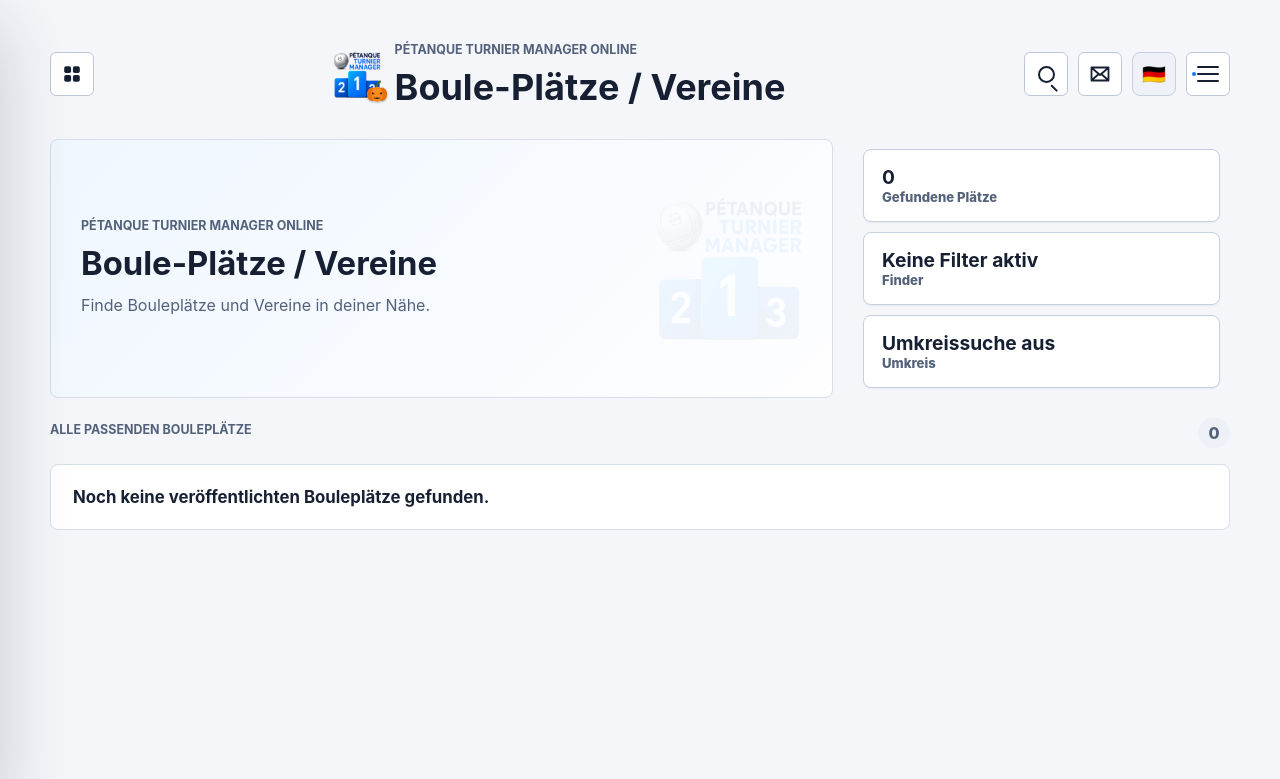
Test: Hamburger-Menü behält den Bereich › zeigt nach „Mein Profil“ aus Plätze & Vereine weiter das Menü dieses Bereichs
Click the button named "Menü öffnen": (1208, 74) x1=1186 y1=52 x2=1230 y2=96
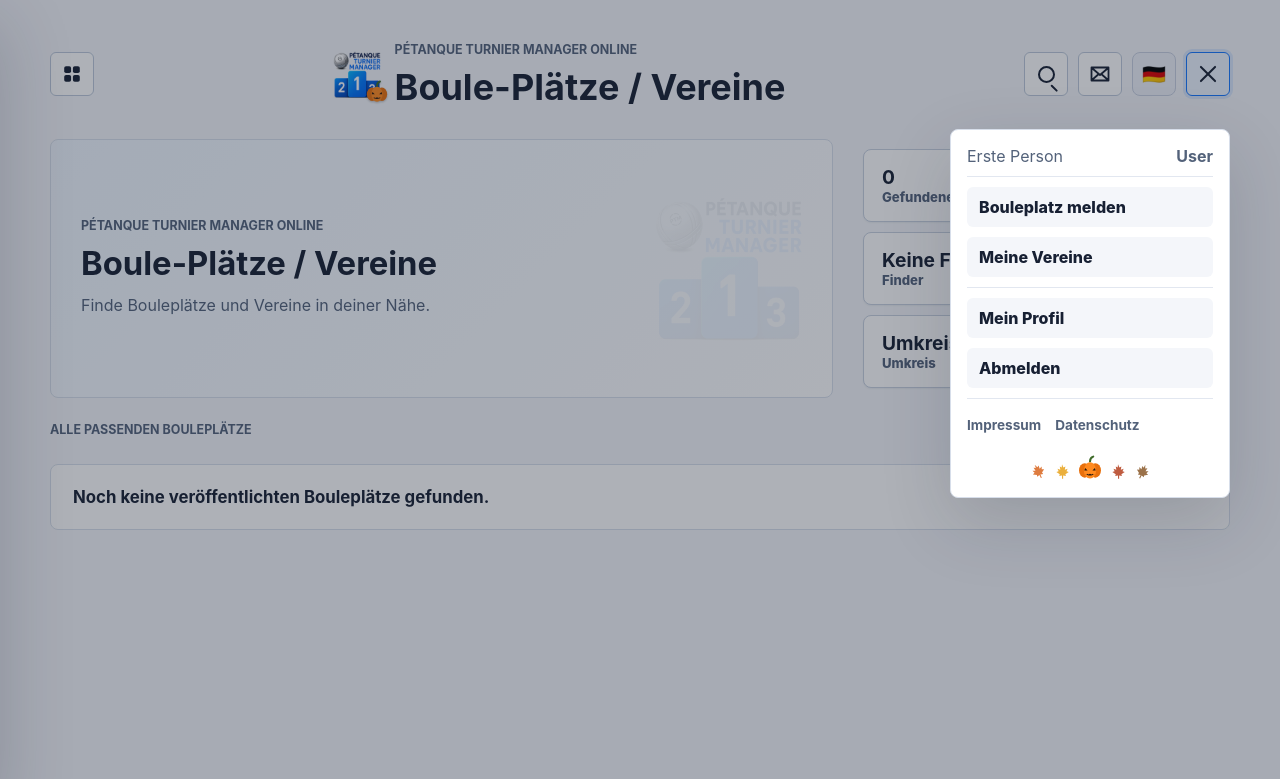
Click the button "Mein Profil": (1090, 318) x1=967 y1=298 x2=1213 y2=338
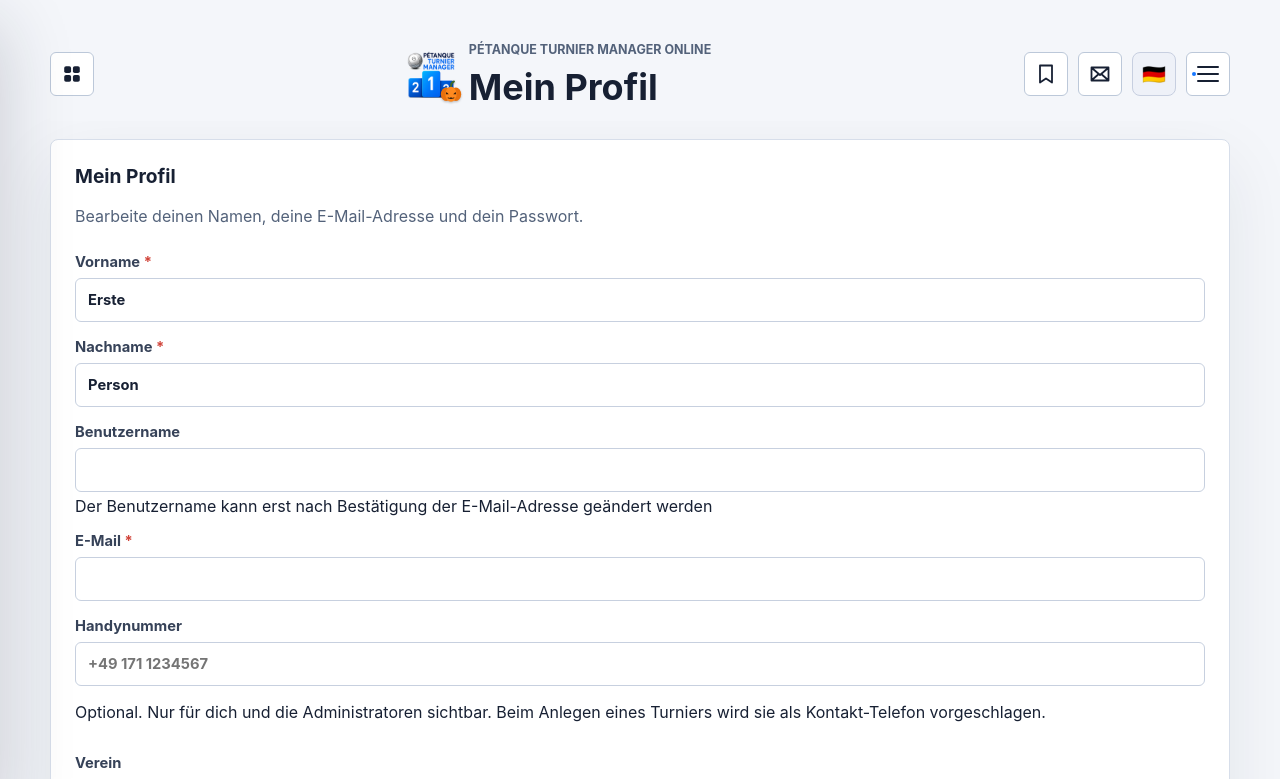
Now the 1st heading "Mein Profil" is shown, box x1=469 y1=65 x2=658 y2=109
Click the button named "Menü öffnen": (1208, 74) x1=1186 y1=52 x2=1230 y2=96
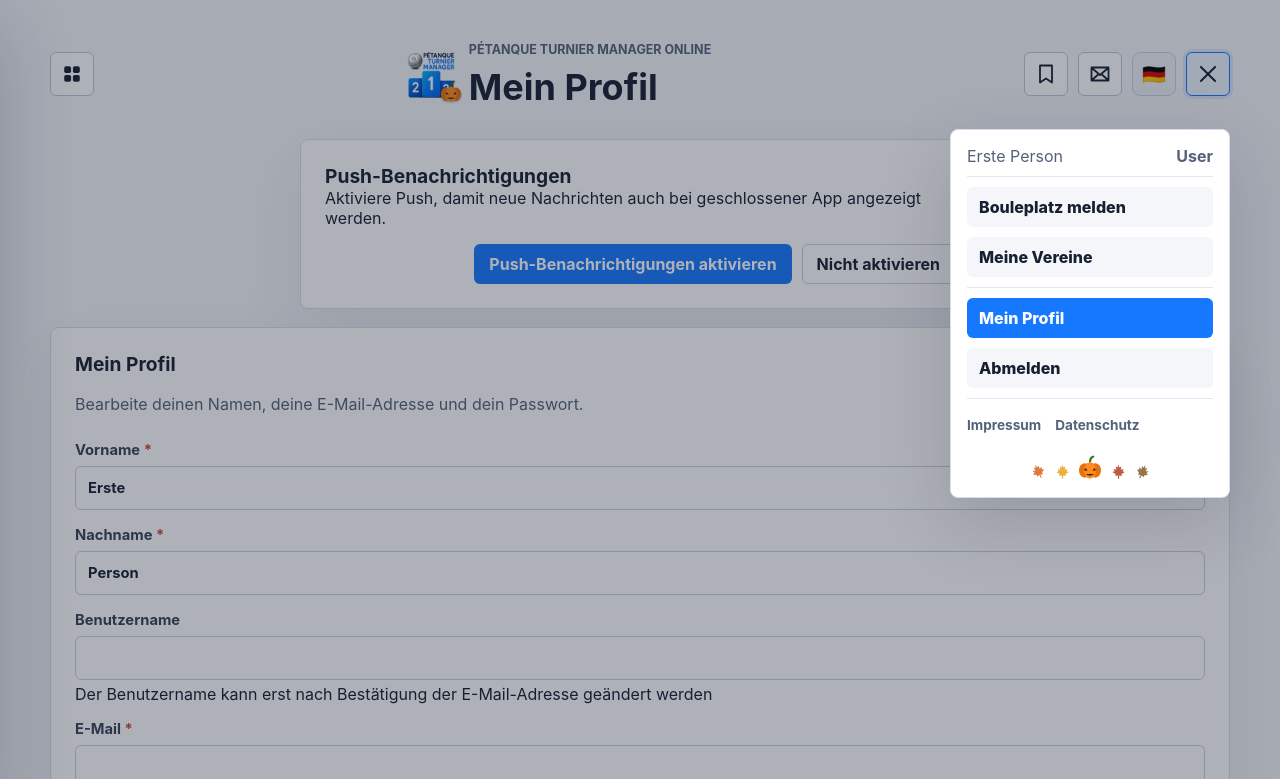
Now the button "Meine Vereine" is shown, box x1=967 y1=237 x2=1213 y2=277
